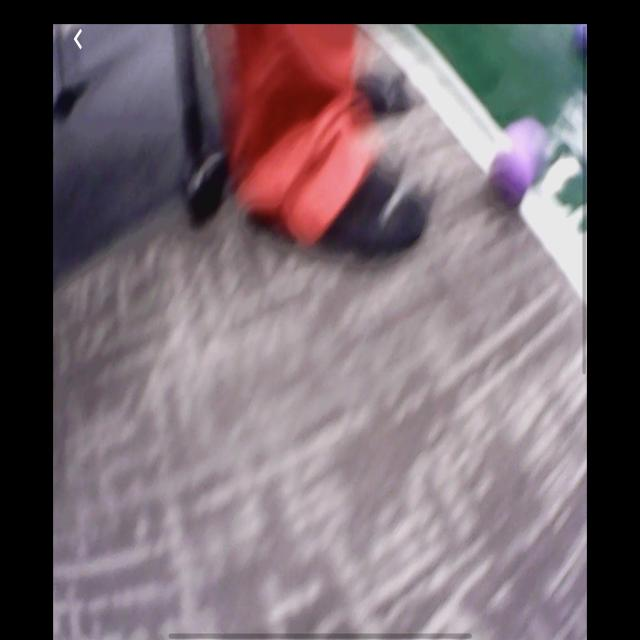ball: (490, 150, 530, 208), (571, 26, 588, 64)
